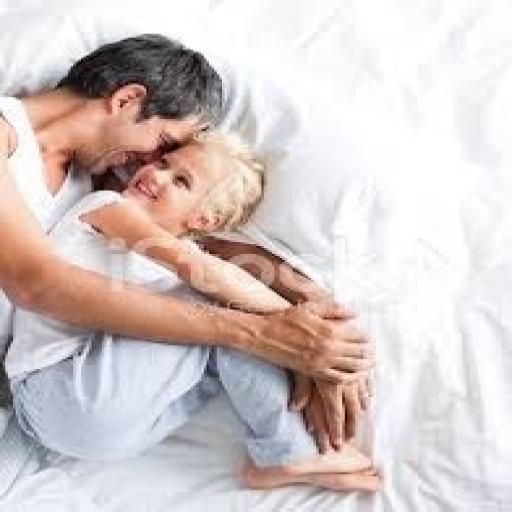hugging: (0, 32, 384, 500)
